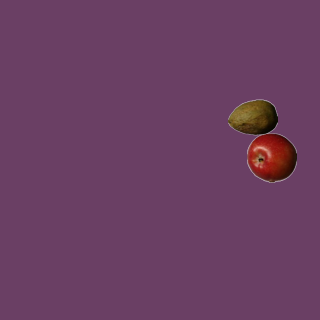Apple Braeburn: (246, 132, 296, 182)
Papaya: (227, 92, 277, 142)
